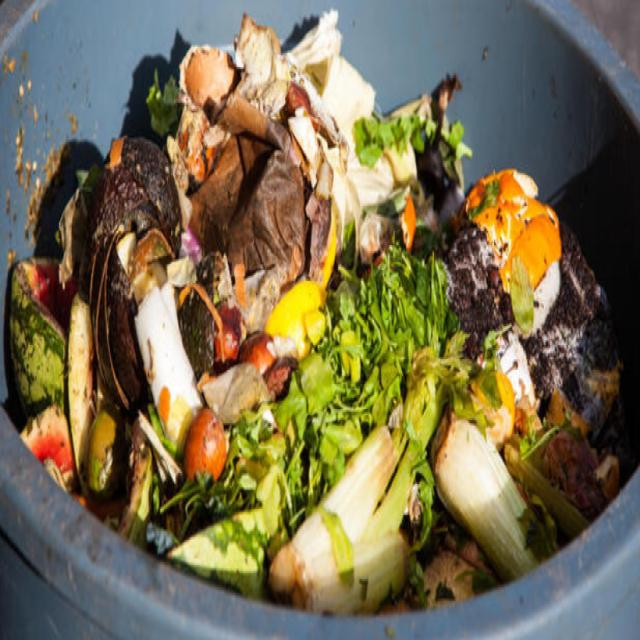paper: (261, 424, 424, 609), (358, 224, 454, 415), (78, 131, 202, 267), (6, 219, 89, 413), (458, 140, 559, 291), (258, 284, 342, 366), (18, 382, 78, 479), (178, 390, 232, 495)
